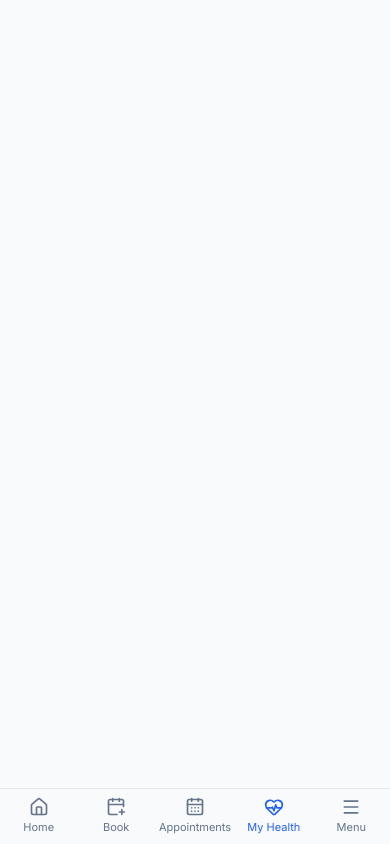
Test: live portal navigation › phone: Home, Book, Appointments, My Health and a Menu with every page; My Health lights up for reports and documents
Expected: the link "My Health" is shown, [247, 797, 300, 834]
Click the button "Menu": (351, 817) [313, 791, 389, 842]
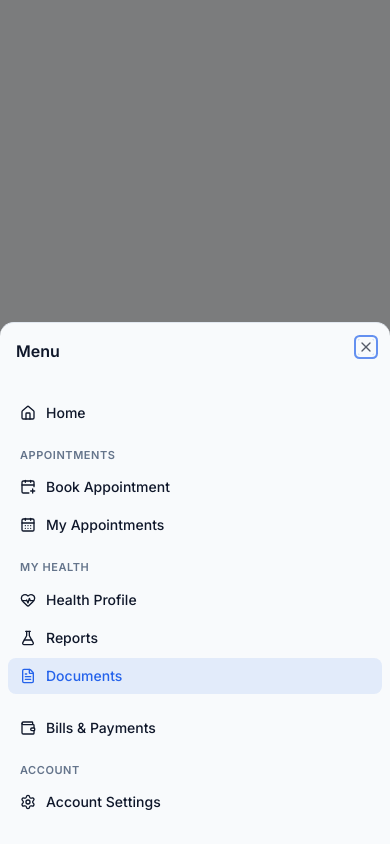
Now the dialog shows "My Health", box [20, 560, 89, 574]
